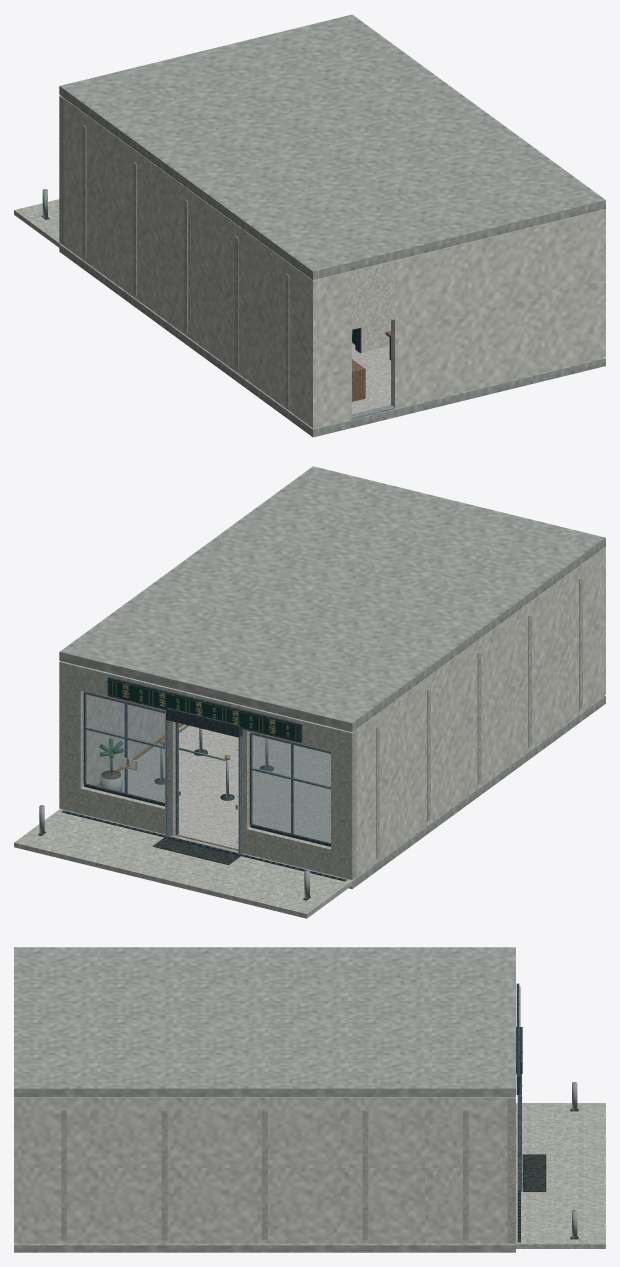
The picture shows the model from 3 angles, top to bottom: view 1: azimuth 30°, elevation 25°; view 2: azimuth 150°, elevation 25°; view 3: azimuth 270°, elevation 25°; orthographic projection.
Visible parts, largest first — view 1: VIS_concrete, VIS_wall, VIS_limestone, VIS_floor; view 2: VIS_concrete, VIS_wall, VIS_limestone, VIS_floor, VIS_glass, VIS_steel_dark, VIS_aluminum, VIS_bank_sign, VIS_rubber, VIS_steel_bright; view 3: VIS_concrete, VIS_wall, VIS_limestone, VIS_rubber, VIS_steel_dark, VIS_aluminum.
Boxes of the visible parts, <box> form: VIS_concrete: <box>59,14,605,437</box>; VIS_wall: <box>63,98,605,428</box>; VIS_limestone: <box>14,95,289,406</box>; VIS_floor: <box>352,330,390,414</box>; VIS_concrete: <box>59,466,605,889</box>; VIS_wall: <box>86,547,605,876</box>; VIS_limestone: <box>14,576,582,918</box>; VIS_floor: <box>100,724,330,850</box>; VIS_glass: <box>86,694,330,842</box>; VIS_steel_dark: <box>38,677,346,900</box>; VIS_aluminum: <box>83,691,330,855</box>; VIS_bank_sign: <box>110,680,297,741</box>; VIS_rubber: <box>84,693,251,865</box>; VIS_steel_bright: <box>39,728,309,898</box>; VIS_concrete: <box>14,947,515,1252</box>; VIS_wall: <box>14,1097,508,1243</box>; VIS_limestone: <box>61,1097,605,1248</box>; VIS_rubber: <box>522,1154,546,1191</box>; VIS_steel_dark: <box>516,983,578,1242</box>; VIS_aluminum: <box>517,1074,521,1191</box>.
Size of the model in its own units: 8.03 by 4.33 by 14.15.
25 materials, 25 textured.
